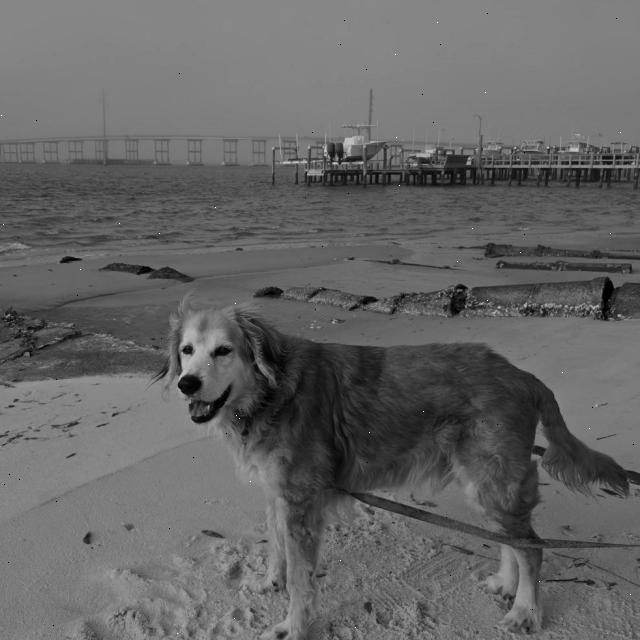golden_retriever_dog: (154, 296, 302, 438)
